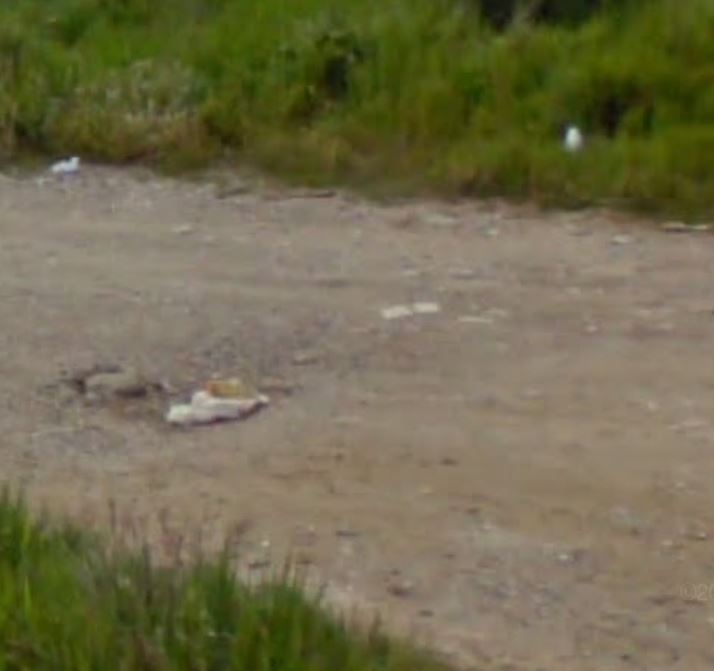trash: (158, 372, 269, 429), (34, 143, 89, 188), (560, 120, 595, 154)
